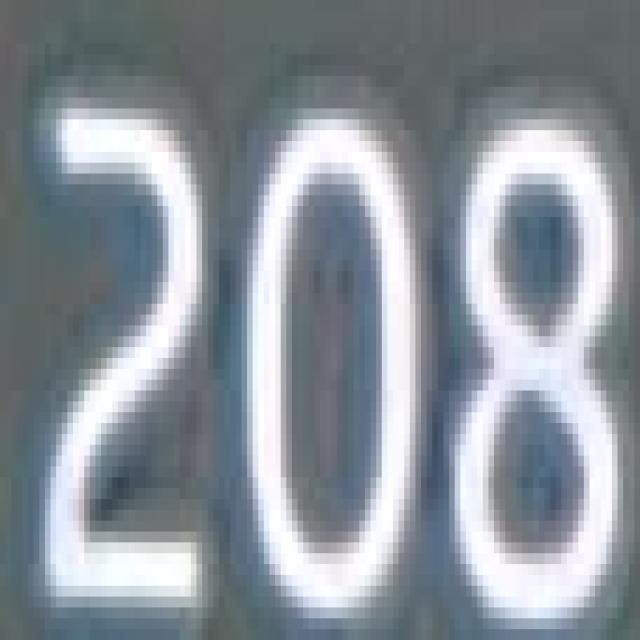character: (442, 103, 634, 629), (38, 83, 216, 626), (243, 103, 427, 628)
